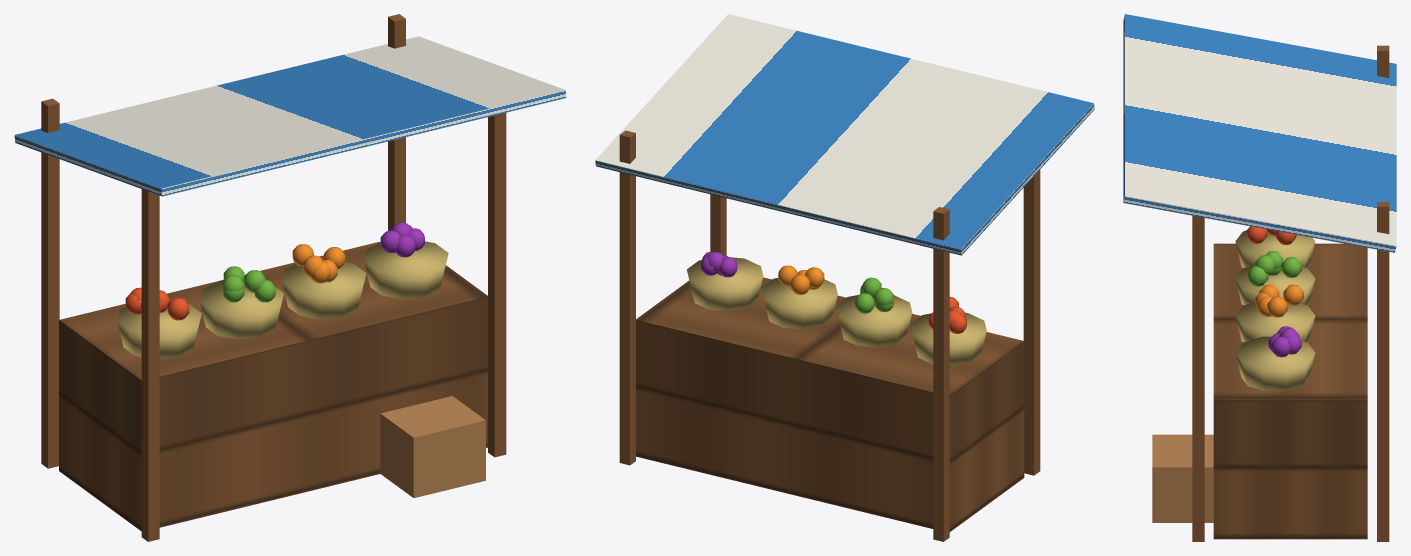
Rendered from prop_kios_b.glb.
The picture shows the model from 3 angles, left to right: view 1: azimuth 30°, elevation 25°; view 2: azimuth 150°, elevation 25°; view 3: azimuth 270°, elevation 25°; orthographic projection. The views are drawn at different scales.
Parts seen in each view (by area): view 1: kios_b; view 2: kios_b; view 3: kios_b.
Boxes of the visible parts, x1,y1,x2,y2 form: kios_b: [14, 14, 566, 541]; kios_b: [595, 14, 1094, 541]; kios_b: [1123, 14, 1396, 541].
Bounding box in the file's own units: 2.8 × 2.55 × 1.77.
9 materials, 2 textured.
